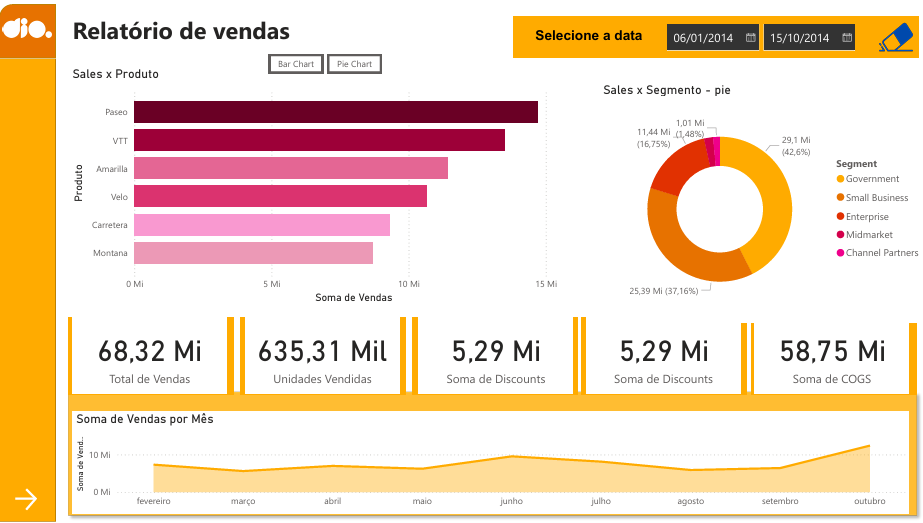

The page's visual inventory and layout, read from the dashboard file:
{"tool":"powerbi","page":{"name":"Página 1","canvas":[1280,720],"ordinal":0},"visuals":[{"type":"shape","box":[10.1,13.4,77.2,706.3],"z":0},{"type":"slicer","fields":{"Values":["financials.Date"]},"box":[909.1,20,280,55.9],"z":0,"group":"g1"},{"type":"donutChart","title":"Sales x Segmento - pie","fields":{"Y":["Sum(financials. Sales)"],"Category":["financials.Segment"]},"box":[830.1,118.9,450.4,328.5],"z":0,"group":"g3"},{"type":"shape","box":[103.9,440.4,226.5,105.7],"z":0,"group":"g2"},{"type":"actionButton","title":"Botão - bar","box":[377.6,81,74.5,26.6],"z":500,"group":"g3"},{"type":"actionButton","title":"Botão -pie","box":[457.4,81,74.5,26.6],"z":750,"group":"g3"},{"type":"shape","box":[10.1,13.4,77.2,73.8],"z":1000},{"type":"textbox","box":[104.9,20,324.5,52.9],"z":1000,"group":"g4"},{"type":"textbox","box":[712,30,206.7,36],"z":1000,"group":"g1"},{"type":"shape","box":[338.6,440.4,226.5,105.7],"z":1000,"group":"g2"},{"type":"image","title":"logo_dio","box":[10,14,76.9,62.9],"z":2000},{"type":"actionButton","box":[1203.7,24.3,61.6,51.6],"z":2000,"group":"g1"},{"type":"shape","box":[573.5,440.4,226.5,105.7],"z":2000,"group":"g2"},{"type":"image","title":"clean","box":[1203.7,20,61.6,55.9],"z":3000,"group":"g1"},{"type":"shape","box":[805,440.4,226.5,105.7],"z":3000,"group":"g2"},{"type":"shape","box":[94.9,533.3,1177.4,186.7],"z":3000},{"type":"clusteredBarChart","title":"Sales x Produto","fields":{"Y":["Sum(financials. Sales)"],"Category":["financials.Product"]},"box":[104.9,97.9,709,328.5],"z":4000},{"type":"shape","box":[1038.1,440.4,226.5,105.7],"z":4000,"group":"g2"},{"type":"group","id":"g1","title":"Filtro por data","box":[712,20,553.2,55.9],"z":5000},{"type":"card","fields":{"Values":["Sum(financials. Sales)"]},"box":[109.6,440.8,211,105.5],"z":5000,"group":"g2"},{"type":"group","id":"g2","title":"Cartões","box":[103.9,440.4,1160.7,105.9],"z":6000},{"type":"card","fields":{"Values":["Sum(financials.Units Sold)"]},"box":[346.3,440.8,211,105.5],"z":6000,"group":"g2"},{"type":"card","fields":{"Values":["Sum(financials.Discounts)"]},"box":[812.4,440.8,211,105.5],"z":7000,"group":"g2"},{"type":"group","id":"g3","title":"Sales x Segmento","box":[160.8,76.9,1119.4,370.5],"z":8000},{"type":"card","fields":{"Values":["Sum(financials.Discounts)"]},"box":[582.9,440.8,211,105.5],"z":8000,"group":"g2"},{"type":"group","id":"g4","title":"Title report","box":[104.9,20,324.5,52.9],"z":9000},{"type":"card","fields":{"Values":["Sum(financials.COGS)"]},"box":[1041.8,440.8,211,105.5],"z":9000,"group":"g2"},{"type":"actionButton","box":[25.9,669,48.8,39.6],"z":10000},{"type":"areaChart","fields":{"Category":["financials.Date.Variation.Hierarquia de datas.Mês"],"Y":["Sum(financials. Sales)"]},"box":[109.6,569.1,1143.2,139.7],"z":11000}]}

Visuals, with their boxes in screenshot pixels (x1, y1, x2, y2), scaled from the page's 1280x720 canvas onto the 923x523 screenshot:
shape: (x1=7, y1=10, x2=63, y2=522)
slicer - financials.Date: (x1=656, y1=15, x2=857, y2=55)
"Sales x Segmento - pie" donutChart: (x1=599, y1=86, x2=922, y2=325)
shape: (x1=75, y1=320, x2=238, y2=397)
"Botão - bar" actionButton: (x1=272, y1=59, x2=326, y2=78)
"Botão -pie" actionButton: (x1=330, y1=59, x2=384, y2=78)
shape: (x1=7, y1=10, x2=63, y2=63)
textbox: (x1=76, y1=15, x2=310, y2=53)
textbox: (x1=513, y1=22, x2=662, y2=48)
shape: (x1=244, y1=320, x2=407, y2=397)
"logo_dio" image: (x1=7, y1=10, x2=63, y2=56)
actionButton: (x1=868, y1=18, x2=912, y2=55)
shape: (x1=414, y1=320, x2=577, y2=397)
"clean" image: (x1=868, y1=15, x2=912, y2=55)
shape: (x1=580, y1=320, x2=744, y2=397)
shape: (x1=68, y1=387, x2=917, y2=522)
"Sales x Produto" clusteredBarChart: (x1=76, y1=71, x2=587, y2=310)
shape: (x1=749, y1=320, x2=912, y2=397)
"Filtro por data" group: (x1=513, y1=15, x2=912, y2=55)
card - Sum(financials. Sales): (x1=79, y1=320, x2=231, y2=397)
"Cartões" group: (x1=75, y1=320, x2=912, y2=397)
card - Sum(financials.Units Sold): (x1=250, y1=320, x2=402, y2=397)
card - Sum(financials.Discounts): (x1=586, y1=320, x2=738, y2=397)
"Sales x Segmento" group: (x1=116, y1=56, x2=922, y2=325)
card - Sum(financials.Discounts): (x1=420, y1=320, x2=572, y2=397)
"Title report" group: (x1=76, y1=15, x2=310, y2=53)
card - Sum(financials.COGS): (x1=751, y1=320, x2=903, y2=397)
actionButton: (x1=19, y1=486, x2=54, y2=515)
areaChart - financials.Date.Variation.Hierarquia de datas.Mês x Sum(financials. Sales): (x1=79, y1=413, x2=903, y2=515)
